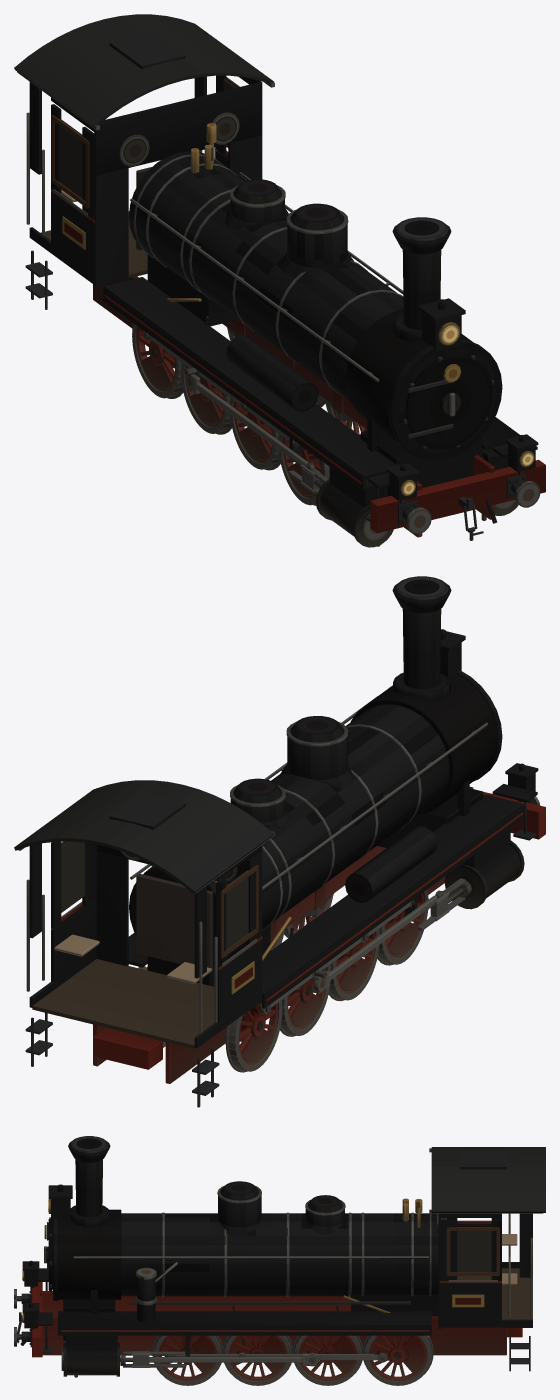
Rendered from lokomotif.glb.
3 renders of one model, top to bottom at view 1: azimuth 30°, elevation 25°; view 2: azimuth 150°, elevation 25°; view 3: azimuth 270°, elevation 25°, orthographic. The views are drawn at different scales.
Parts seen in each view (by area): view 1: dark-cab-010, dark-boiler-003, dark-boards-009, dark-smokebox-004, dark-domes-006, dark-buffers-002, dark-frame-001, dark-cylinders-008, dark-stack-005, dark-lampbox-007, window-cab-002, dark-driver-014 (+5 smaller); view 2: dark-cab-010, dark-boiler-003, dark-boards-009, dark-frame-001, dark-smokebox-004, plank-cab-001, dark-domes-006, dark-stack-005, dark-cylinders-008, window-cab-002, dark-driver-014, dark-driver-013 (+6 smaller); view 3: dark-boiler-003, dark-cab-010, dark-boards-009, dark-frame-001, dark-smokebox-004, dark-domes-006, dark-cylinders-008, dark-stack-005, dark-driver-018, dark-driver-017, dark-driver-016, dark-driver-015 (+7 smaller).
Boxes of the visible parts, bbox=[...] form: dark-cab-010: bbox=[14, 14, 274, 309]; dark-boiler-003: bbox=[129, 151, 403, 400]; dark-boards-009: bbox=[103, 172, 537, 521]; dark-smokebox-004: bbox=[345, 309, 502, 460]; dark-domes-006: bbox=[191, 123, 353, 276]; dark-buffers-002: bbox=[370, 459, 545, 540]; dark-frame-001: bbox=[93, 276, 494, 537]; dark-cylinders-008: bbox=[288, 415, 518, 547]; dark-stack-005: bbox=[392, 217, 451, 340]; dark-lampbox-007: bbox=[386, 298, 538, 503]; window-cab-002: bbox=[60, 79, 236, 198]; dark-driver-014: bbox=[132, 323, 183, 398]; dark-cab-010: bbox=[14, 780, 274, 1107]; dark-boiler-003: bbox=[129, 704, 449, 986]; dark-boards-009: bbox=[128, 696, 537, 1008]; dark-frame-001: bbox=[93, 788, 494, 1083]; dark-smokebox-004: bbox=[351, 670, 502, 814]; plank-cab-001: bbox=[54, 873, 213, 983]; dark-domes-006: bbox=[230, 716, 354, 828]; dark-stack-005: bbox=[392, 576, 451, 699]; dark-cylinders-008: bbox=[404, 779, 524, 930]; window-cab-002: bbox=[61, 841, 248, 949]; dark-driver-014: bbox=[225, 1000, 282, 1072]; dark-driver-013: bbox=[280, 964, 330, 1036]; dark-boiler-003: bbox=[121, 1212, 438, 1316]; dark-cab-010: bbox=[429, 1147, 545, 1371]; dark-boards-009: bbox=[37, 1256, 431, 1353]; dark-frame-001: bbox=[40, 1291, 522, 1364]; dark-smokebox-004: bbox=[44, 1209, 121, 1300]; dark-domes-006: bbox=[217, 1181, 422, 1236]; dark-cylinders-008: bbox=[61, 1290, 189, 1377]; dark-stack-005: bbox=[68, 1136, 110, 1226]; dark-driver-018: bbox=[362, 1335, 433, 1385]; dark-driver-017: bbox=[292, 1335, 363, 1385]; dark-driver-016: bbox=[223, 1335, 293, 1385]; dark-driver-015: bbox=[152, 1335, 223, 1385].
Bounding box in the file's own units: 2.9 × 4.8 × 10.25.
